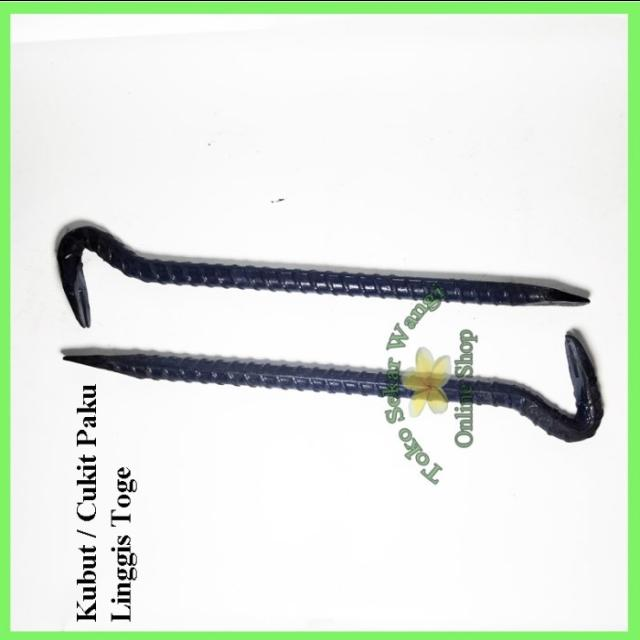Linggis: (59, 331, 601, 442)
